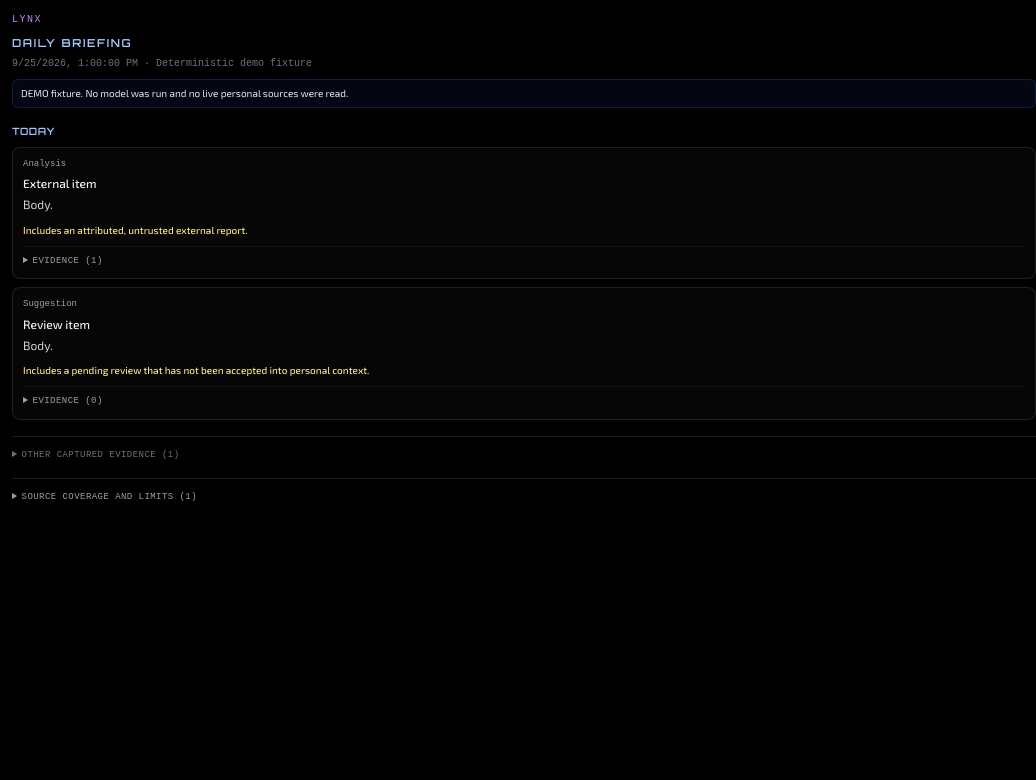
BriefingArtifactMessage › labels synthesis inclusion separately from artifact citation
Click the heading "Evidence (1)" at (68, 260), box [32,256,103,266]
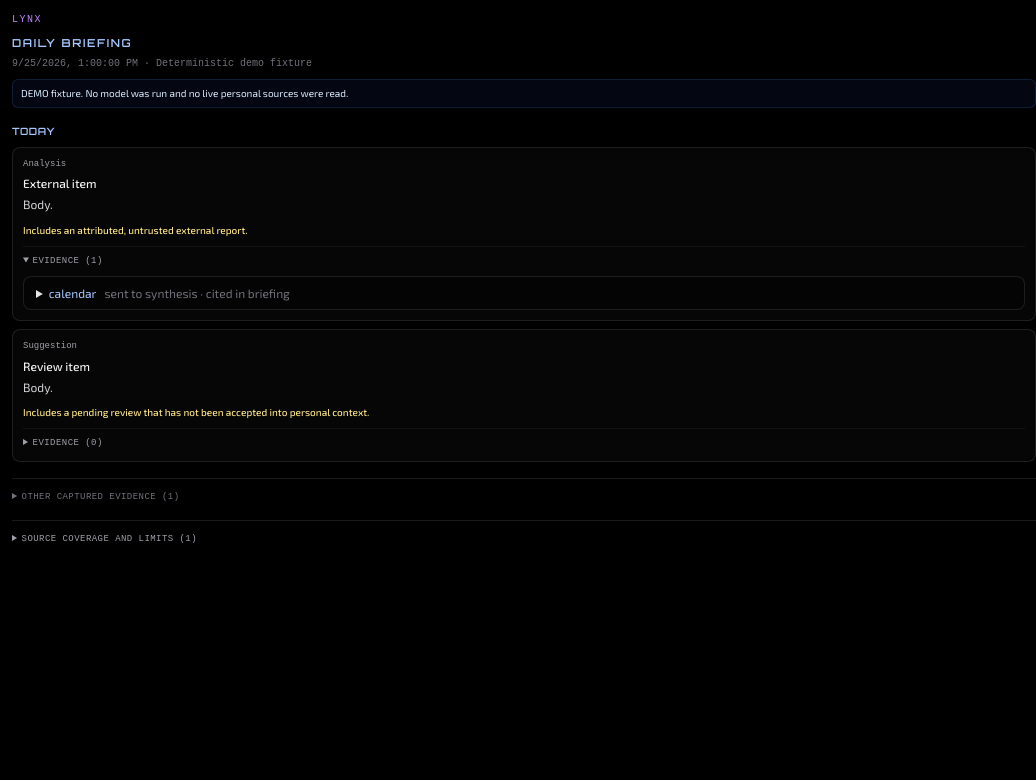
Expected: the text "sent to synthesis · cited in briefing" is shown, [104,286,290,300]
Click the heading "Other captured evidence (1)" at (100, 496), box [22,492,180,502]
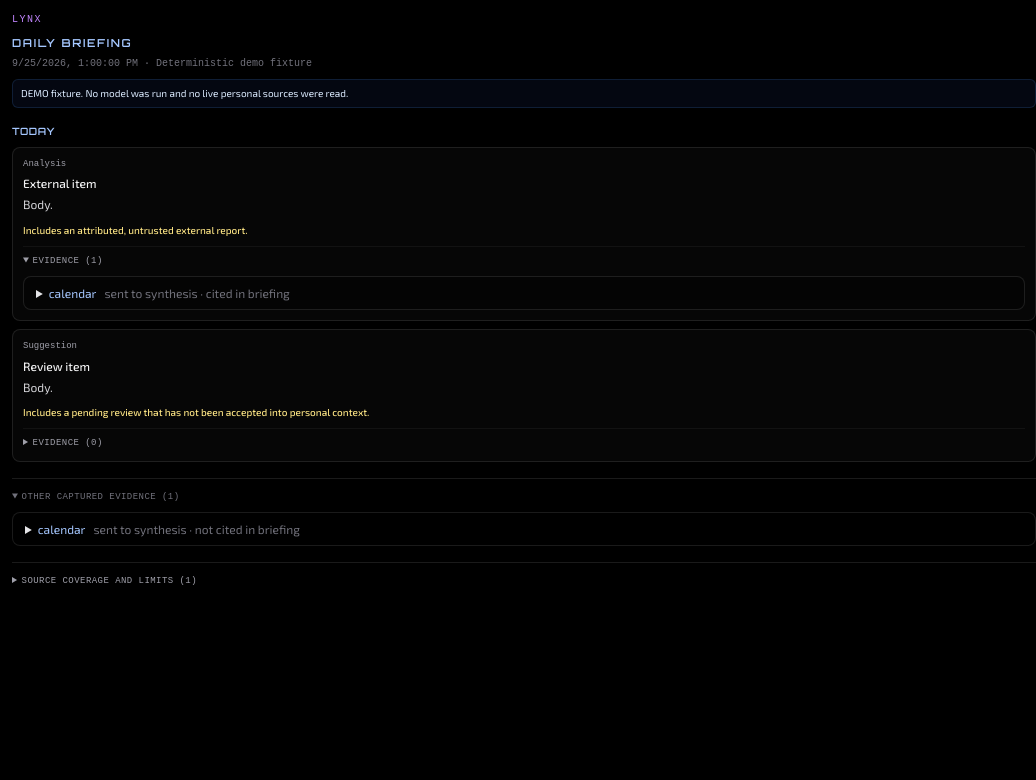
Expected: the text "sent to synthesis · not cited in briefing" is shown, [93,522,300,536]
